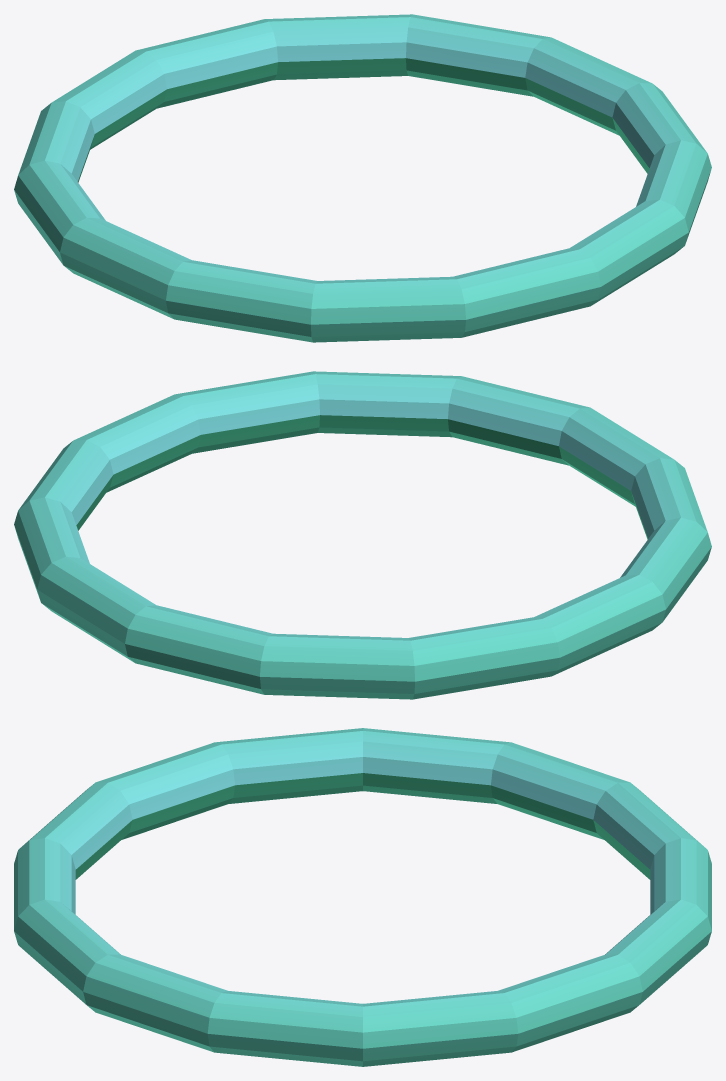
The model's file is shockWave.obj.
3 renders of one model, top to bottom at view 1: azimuth 30°, elevation 25°; view 2: azimuth 150°, elevation 25°; view 3: azimuth 270°, elevation 25°, orthographic. The views are drawn at different scales.
Visible parts, largest first — view 1: トーラス; view 2: トーラス; view 3: トーラス.
Part boxes in pixels (left/top/right/bottom): トーラス: left=14, top=14, right=711, bottom=342; トーラス: left=14, top=371, right=711, bottom=699; トーラス: left=14, top=728, right=711, bottom=1066.
Size of the model in its own units: 2.26 by 0.2 by 2.2.
Materials: 1 (1 with a texture image).
